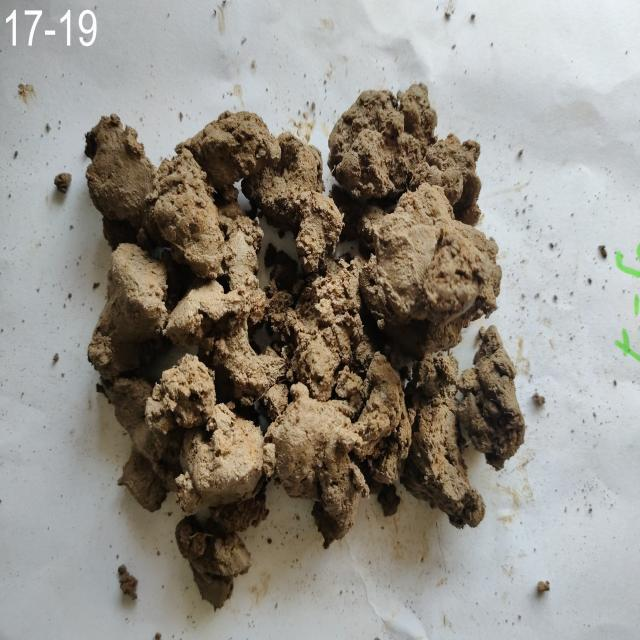soil: (162, 188, 427, 458)
